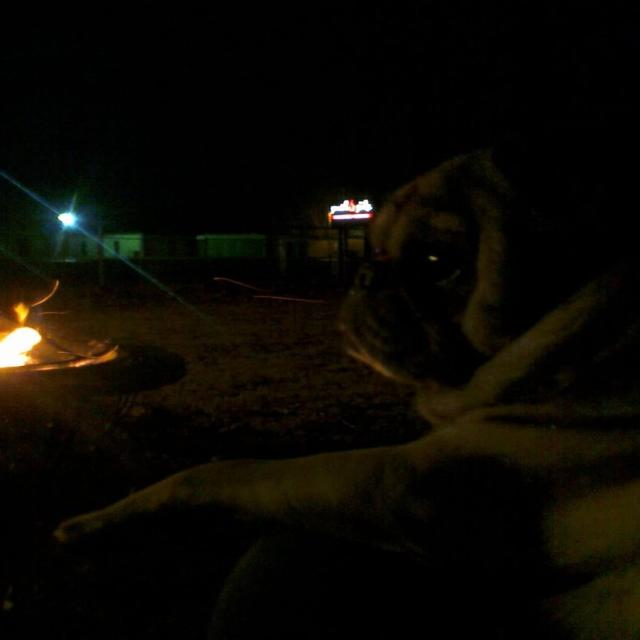Dog: (258, 127, 640, 613)
